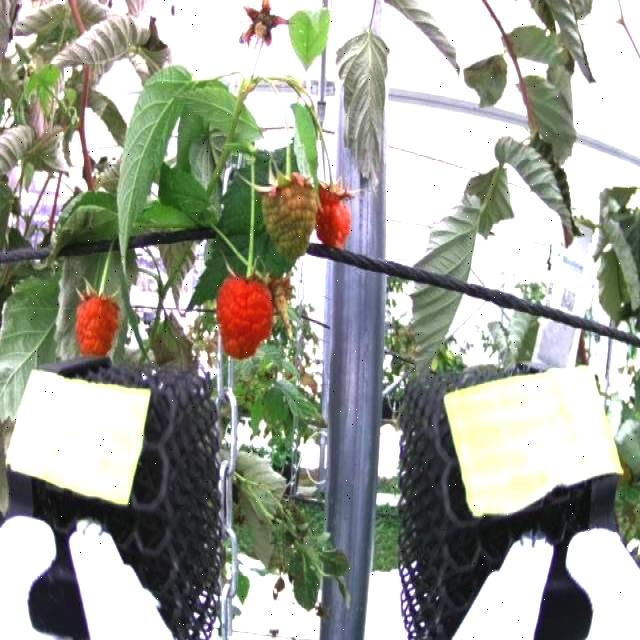Riped berries: (214, 270, 278, 363), (310, 172, 352, 253), (70, 285, 120, 352)
